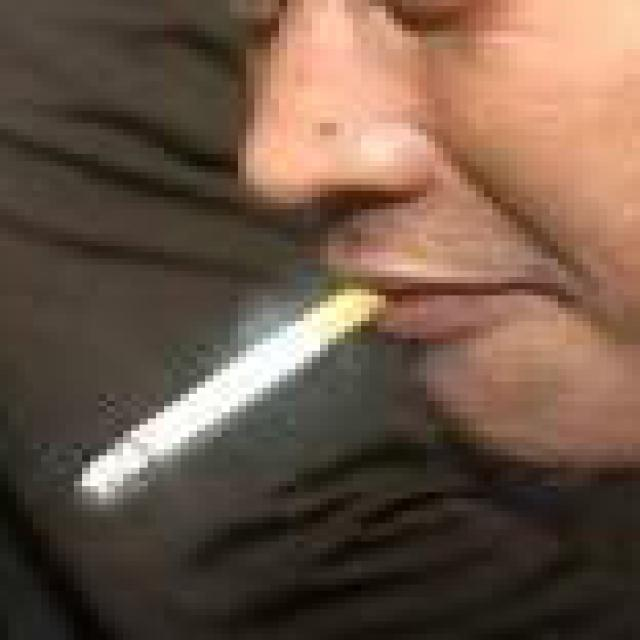smoking: (74, 283, 385, 509)
